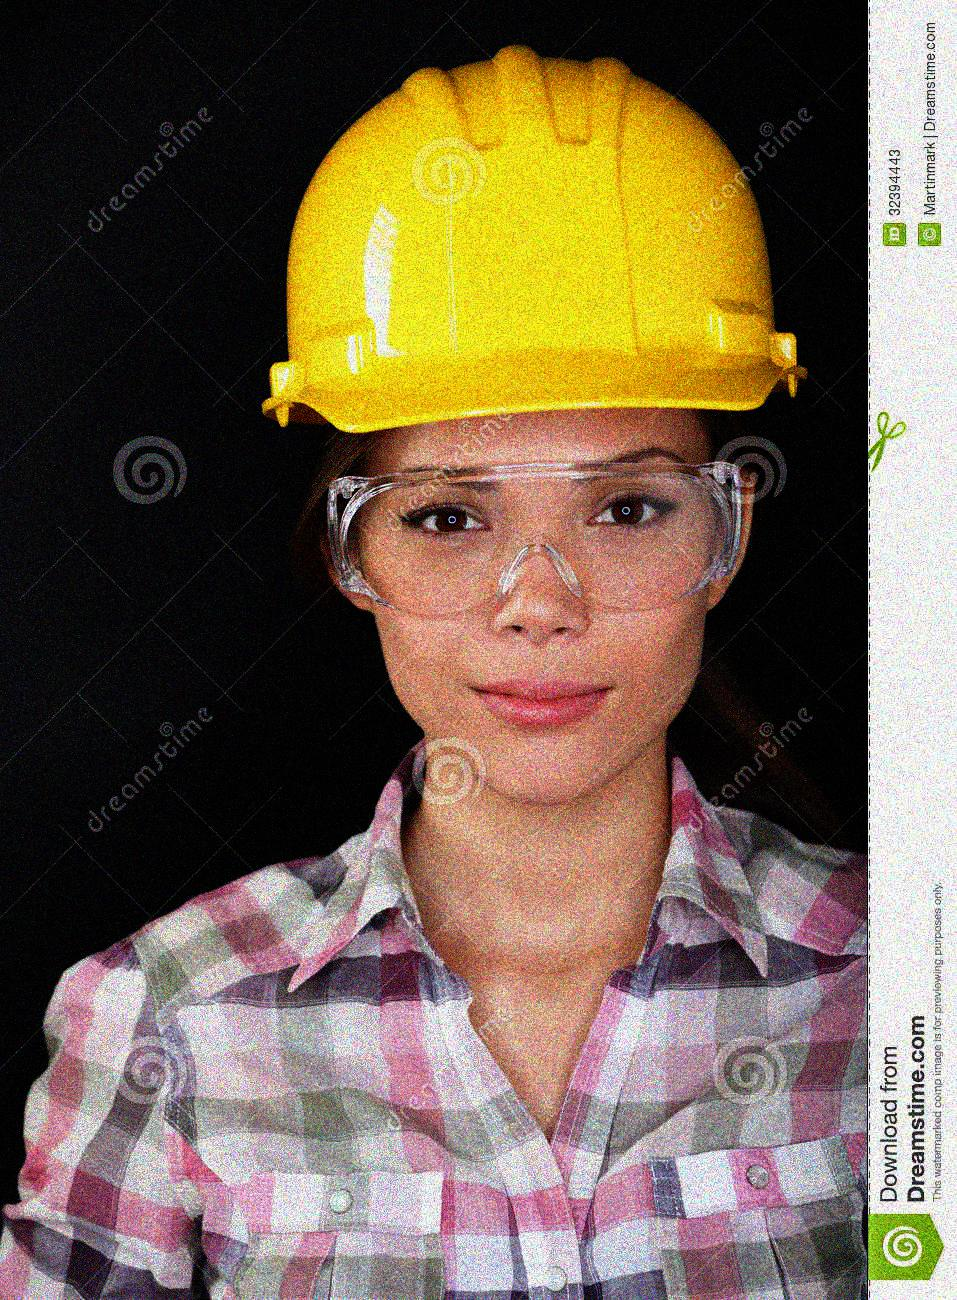helmet: (264, 49, 790, 805)
